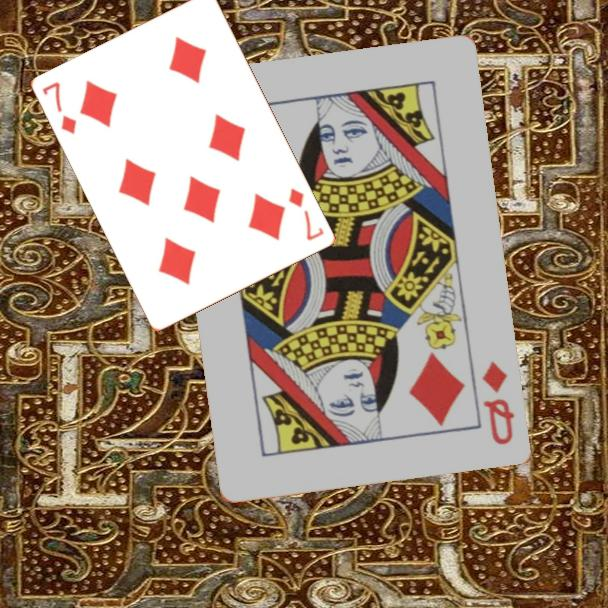d07: (285, 185, 327, 244), (39, 78, 80, 137)
d12: (478, 357, 517, 448)
